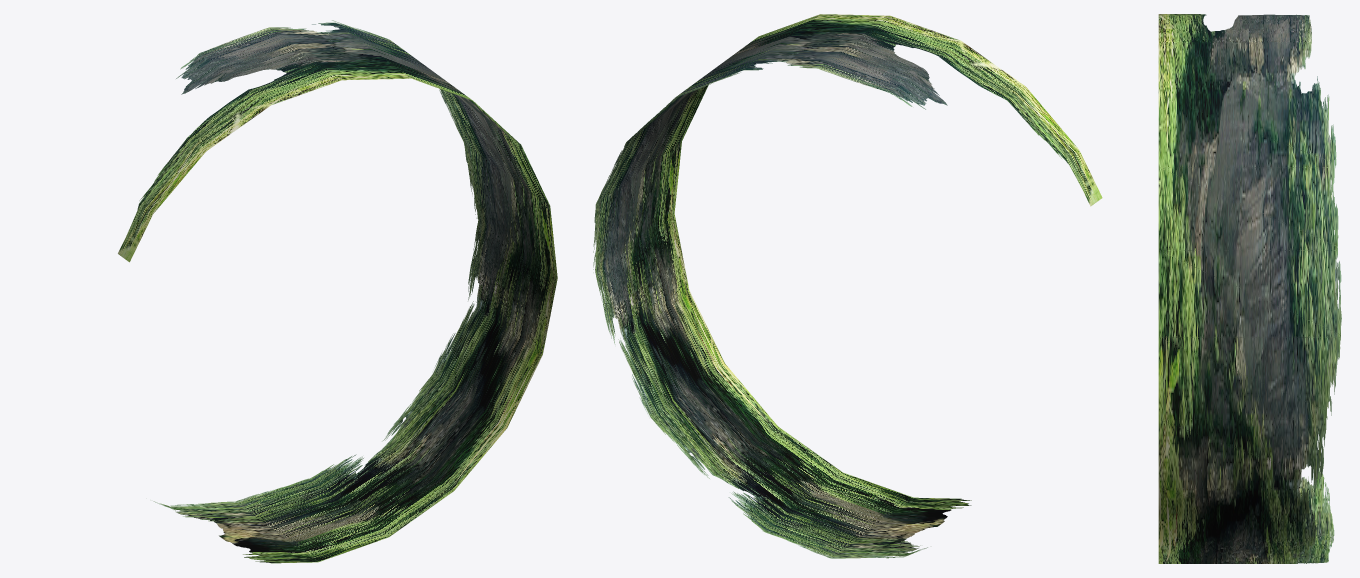
The model's file is yuanshan001.FBX.
The picture shows the model from 3 angles, left to right: view 1: azimuth 30°, elevation 25°; view 2: azimuth 150°, elevation 25°; view 3: azimuth 270°, elevation 25°; orthographic projection. The views are drawn at different scales.
Visible parts, largest first — view 1: matte_set_01; view 2: matte_set_01; view 3: matte_set_01.
Part boxes in pixels (bbox=[...]): matte_set_01: bbox=[118, 20, 557, 563]; matte_set_01: bbox=[593, 14, 1102, 558]; matte_set_01: bbox=[1158, 14, 1341, 563].
Size of the model in its own units: 179847 by 179847 by 60677.
1 material, 1 textured.
